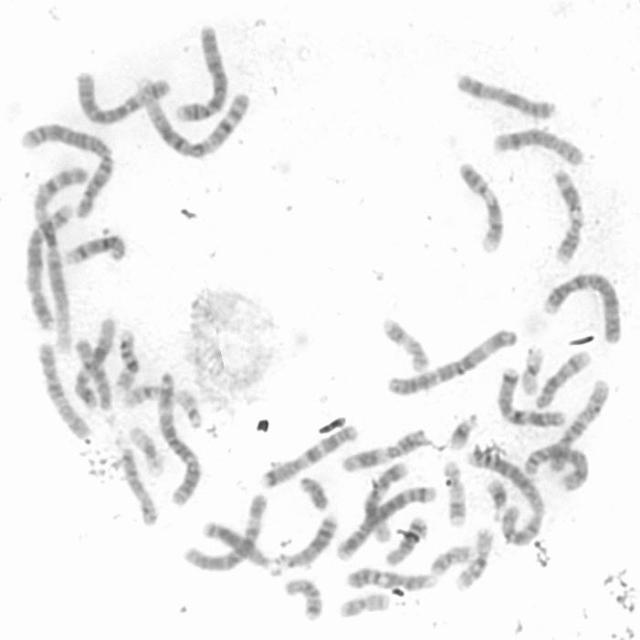A1: (24, 154, 91, 343), (133, 72, 253, 161)
A2: (15, 116, 118, 220), (465, 442, 547, 548)
A3: (382, 322, 520, 397), (154, 366, 202, 507)
B4: (538, 267, 624, 345), (171, 18, 231, 124)
B5: (332, 482, 438, 561), (21, 197, 76, 331)
C10: (541, 374, 612, 473), (32, 338, 92, 439)
C11: (336, 423, 430, 473), (547, 164, 587, 265)
C12: (69, 312, 118, 411), (361, 458, 409, 542)
C6: (178, 487, 270, 573), (71, 68, 173, 126)
C7: (256, 418, 360, 490), (493, 362, 569, 428)
C8: (489, 122, 586, 168), (520, 440, 591, 492)
C9: (453, 156, 506, 255), (343, 565, 439, 593)
D13: (200, 516, 285, 576), (268, 508, 339, 572)
D14: (532, 345, 594, 410), (59, 228, 129, 267)
D15: (116, 442, 161, 528), (71, 334, 116, 412)
E16: (451, 522, 496, 593), (110, 325, 142, 394)
E17: (377, 311, 432, 374), (439, 454, 469, 528)
E18: (381, 513, 429, 567), (281, 572, 324, 622)
F19: (125, 421, 166, 478), (517, 339, 547, 397)
F20: (335, 587, 392, 619), (426, 540, 475, 577)
G21: (444, 408, 480, 451), (482, 474, 509, 518)
G22: (172, 383, 204, 430), (119, 378, 167, 409)
X: (451, 67, 559, 121)
Y: (295, 470, 331, 512)
